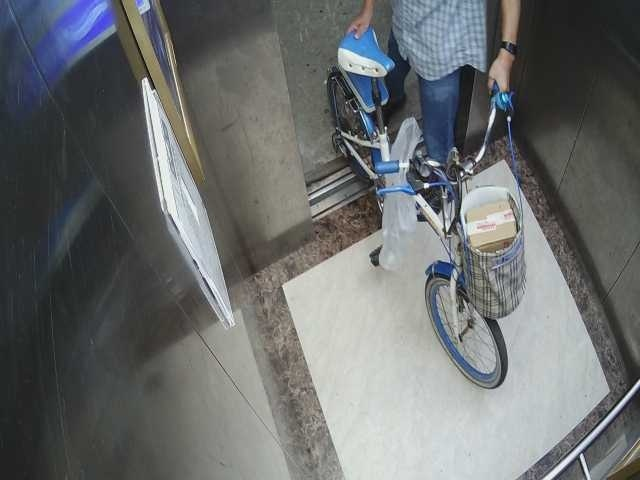bicycle: (324, 35, 531, 391)
